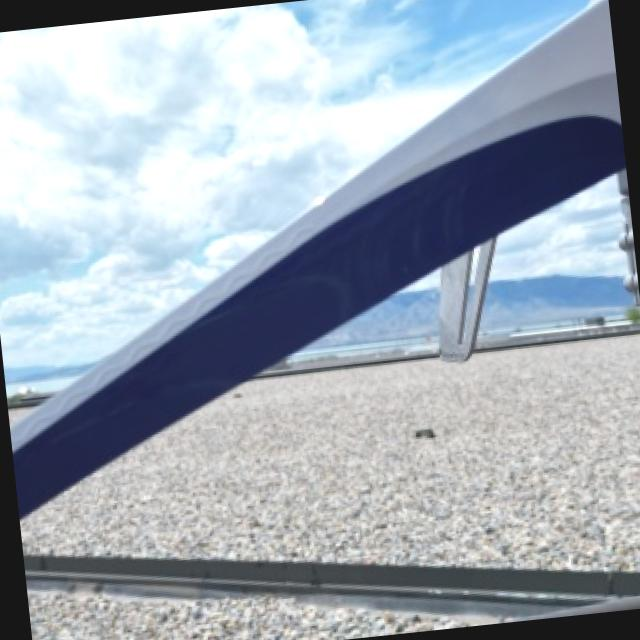healthy: (0, 0, 583, 364)
